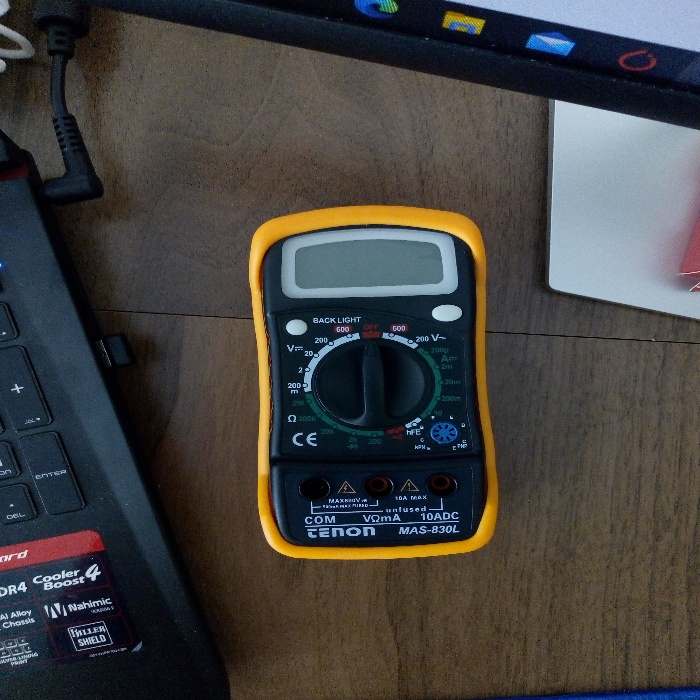multimetre: (224, 178, 510, 566)
